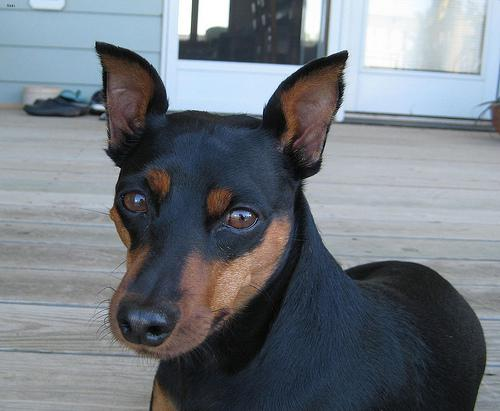dog: (93, 41, 346, 358)
